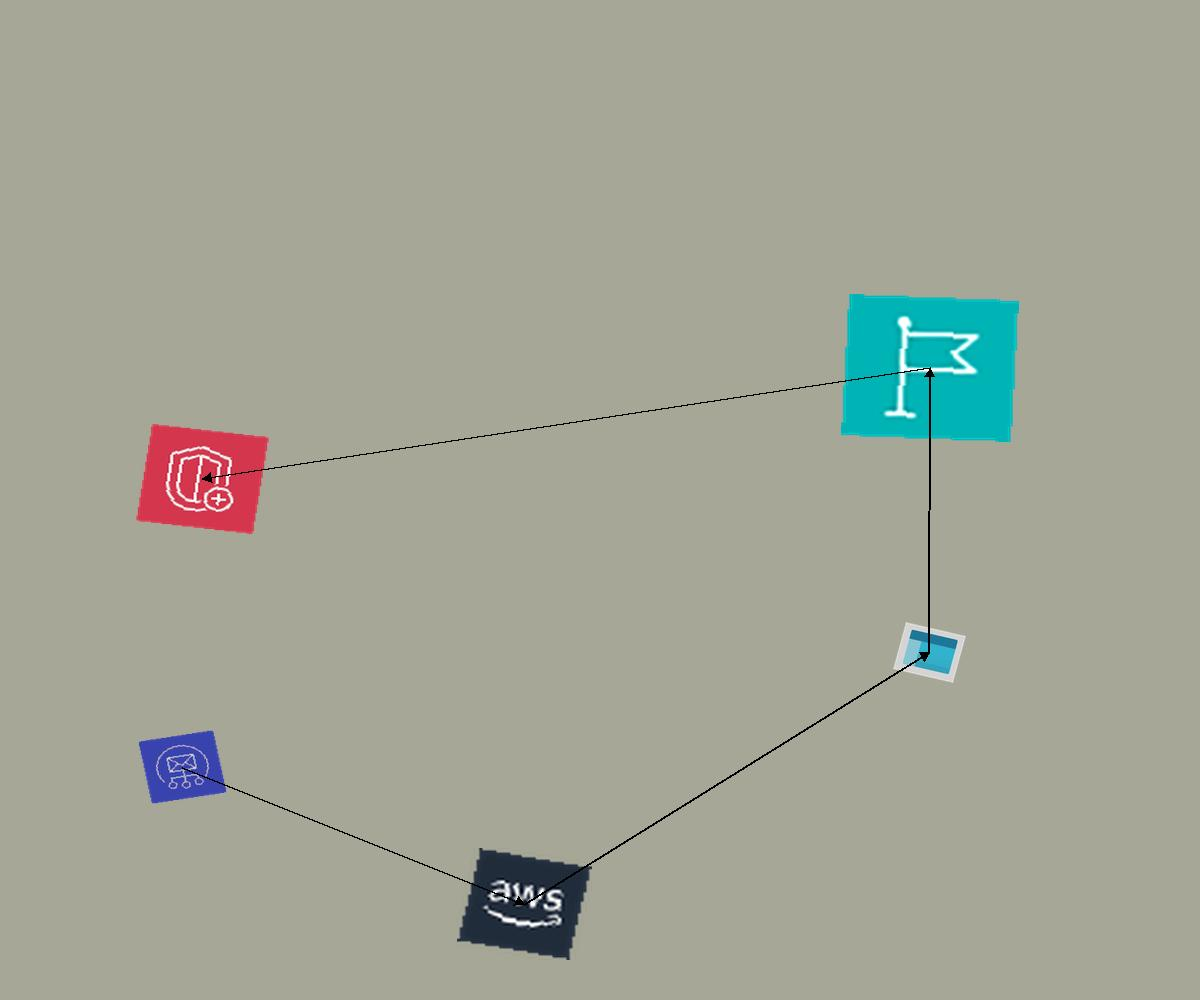AWS-Cloud-logo: (457, 848, 592, 960)
AWS-Region: (841, 294, 1019, 442)
AWS-Shield: (135, 423, 270, 535)
AWS-Simple-Email-Service: (138, 730, 227, 804)
Azure_management-portal: (893, 622, 966, 683)
